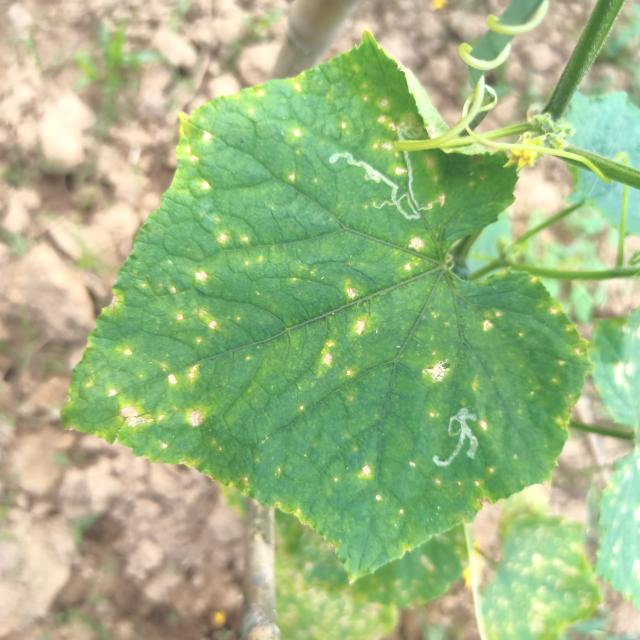disease_cucumber: (88, 113, 280, 490), (350, 298, 572, 522), (264, 56, 449, 277), (300, 269, 382, 403)
